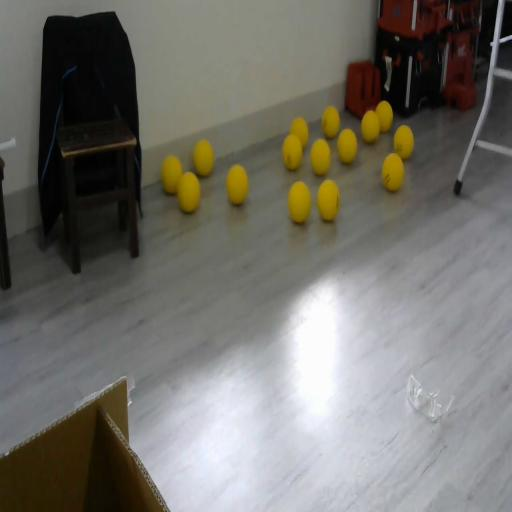FUEL: (287, 179, 312, 224), (176, 170, 201, 214), (316, 178, 340, 221), (225, 163, 249, 205), (192, 138, 215, 177), (382, 152, 404, 191), (310, 138, 331, 176), (336, 128, 358, 164), (162, 155, 182, 193), (393, 124, 414, 160), (361, 110, 380, 144), (375, 100, 394, 132), (290, 117, 308, 150), (322, 106, 340, 139)
